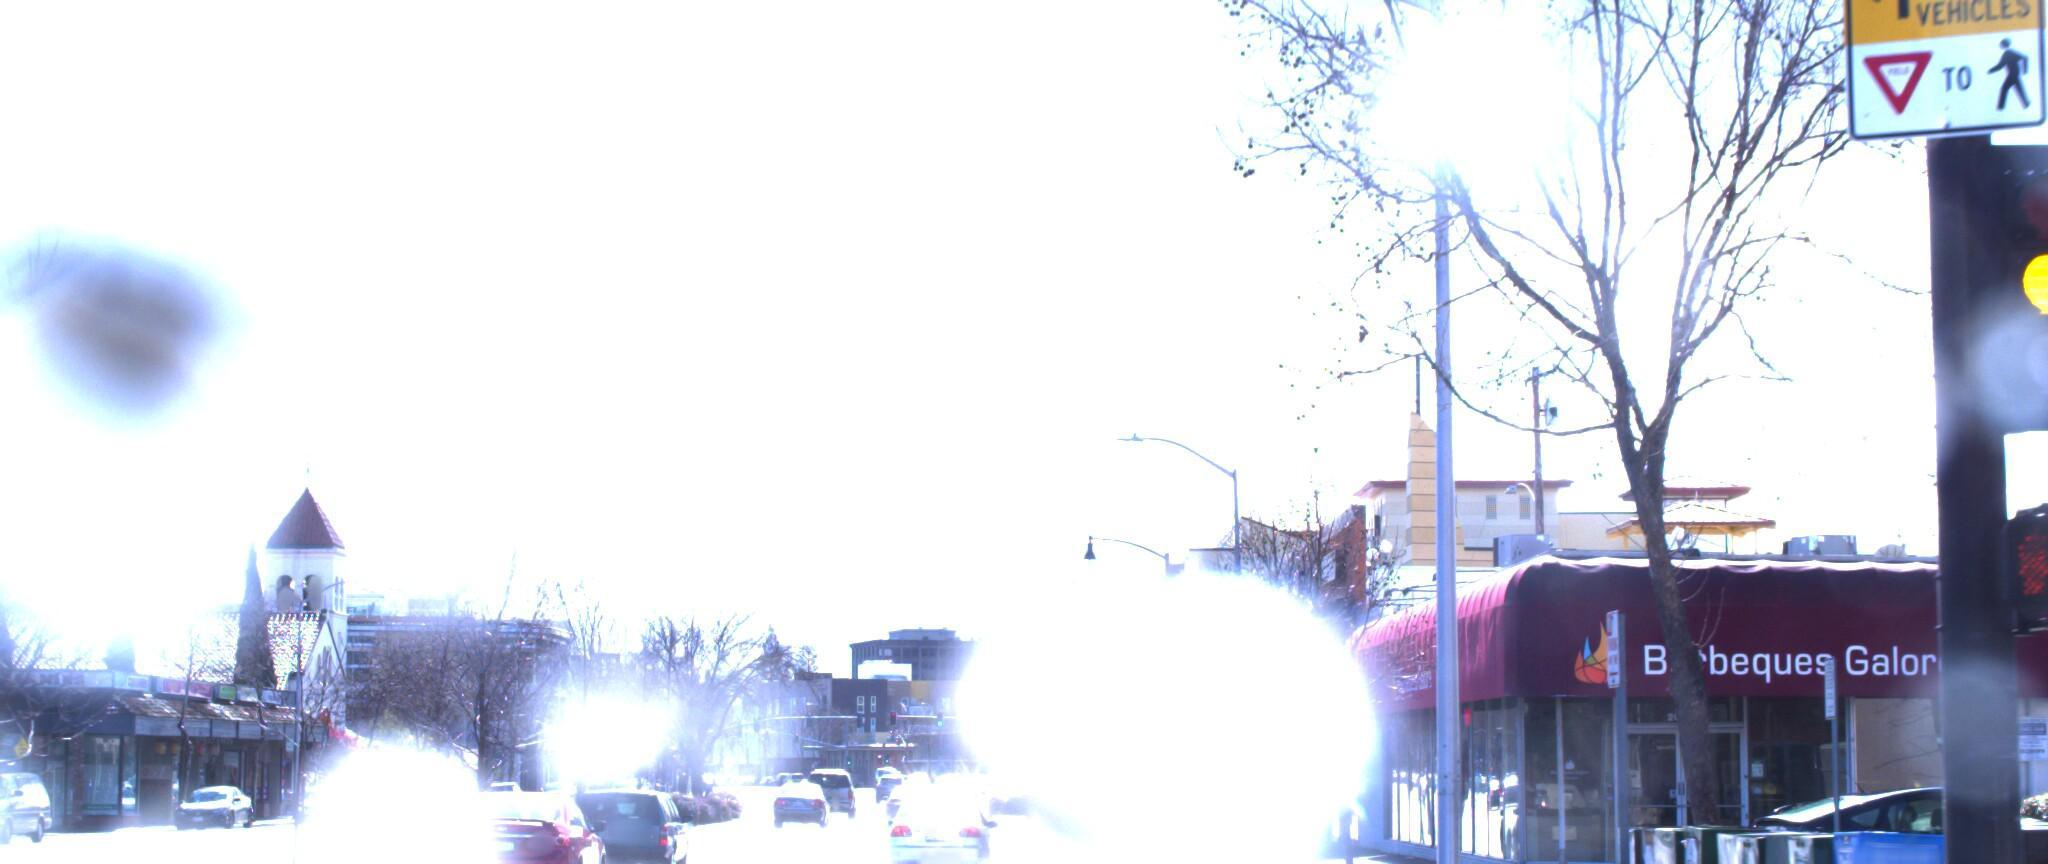car: (422, 773, 609, 864), (562, 784, 697, 864), (865, 782, 993, 864), (1119, 777, 1226, 864)
